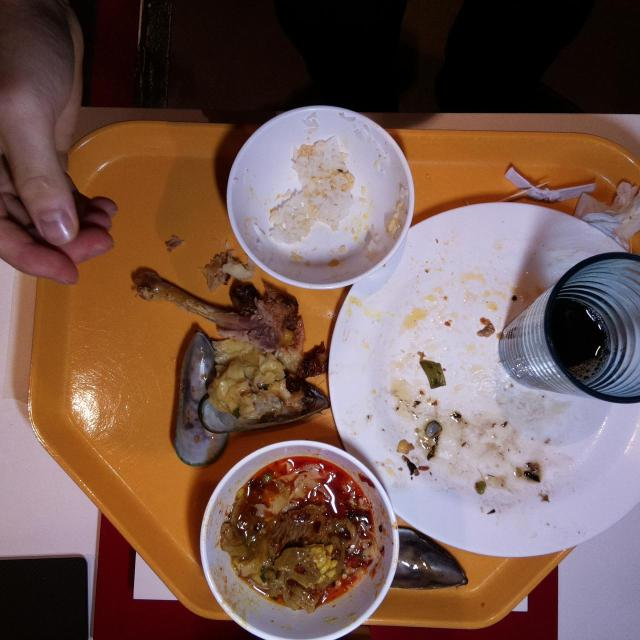Bone: (130, 264, 236, 324)
Mussel-shell: (171, 326, 331, 470), (374, 524, 470, 592)
Rice: (267, 134, 355, 244)
